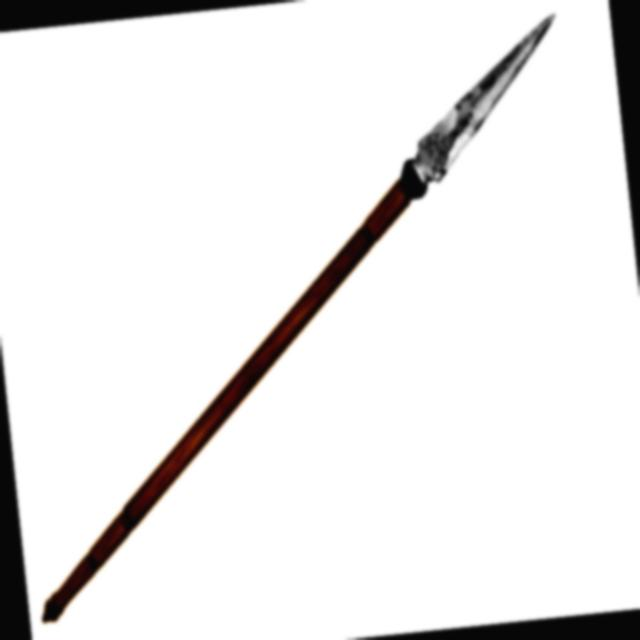spear: (0, 5, 630, 640)
